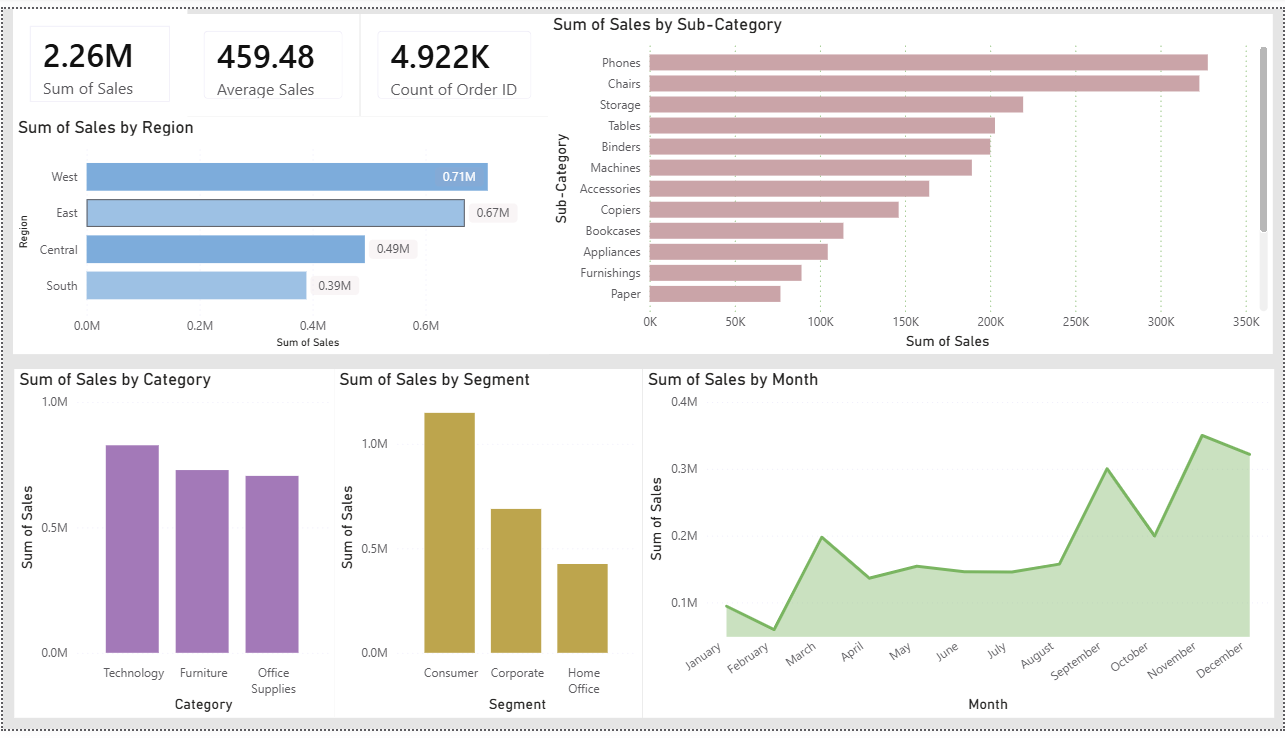

The page's visual inventory and layout, read from the dashboard file:
{"tool":"powerbi","page":{"name":"Page 1","canvas":[1280,720],"ordinal":0},"visuals":[{"type":"cardVisual","fields":{"Data":["Sum(train.Sales)"]},"box":[9.9,0,174.4,110.1],"z":0},{"type":"cardVisual","fields":{"Data":["Count(train.Order ID)"]},"box":[357.5,4.9,188,102.7],"z":1000},{"type":"cardVisual","fields":{"Data":["train.Average Sales"]},"box":[184.3,4.9,173.2,102.7],"z":2000},{"type":"clusteredBarChart","fields":{"Category":["train.Region"],"Y":["Sum(train.Sales)"]},"box":[9.9,107.6,535.6,237.5],"z":3000},{"type":"clusteredColumnChart","fields":{"Category":["train.Category"],"Y":["Sum(train.Sales)"]},"box":[11.1,360,320.4,348.8],"z":4000},{"type":"clusteredBarChart","fields":{"Category":["train.Sub-Category"],"Y":["Sum(train.Sales)"]},"box":[545.5,4.9,724.9,340.2],"z":5000},{"type":"clusteredColumnChart","fields":{"Category":["train.Segment"],"Y":["Sum(train.Sales)"]},"box":[331.5,360,308,348.8],"z":6000},{"type":"lineChart","fields":{"Y":["Sum(train.Sales)"],"Category":["train.Order Date.Variation.Date Hierarchy.Month"]},"box":[639.5,360,630.8,348.8],"z":7000}]}

Visuals, with their boxes in screenshot pixels (x1, y1, x2, y2), scaled from the page's 1280x720 canvas onto the 1285x738 screenshot:
cardVisual - Sum(train.Sales): <bbox>10, 0, 185, 113</bbox>
cardVisual - Count(train.Order ID): <bbox>359, 5, 548, 110</bbox>
cardVisual - train.Average Sales: <bbox>185, 5, 359, 110</bbox>
clusteredBarChart - train.Region x Sum(train.Sales): <bbox>10, 110, 548, 354</bbox>
clusteredColumnChart - train.Category x Sum(train.Sales): <bbox>11, 369, 333, 727</bbox>
clusteredBarChart - train.Sub-Category x Sum(train.Sales): <bbox>548, 5, 1275, 354</bbox>
clusteredColumnChart - train.Segment x Sum(train.Sales): <bbox>333, 369, 642, 727</bbox>
lineChart - Sum(train.Sales) x train.Order Date.Variation.Date Hierarchy.Month: <bbox>642, 369, 1275, 727</bbox>
